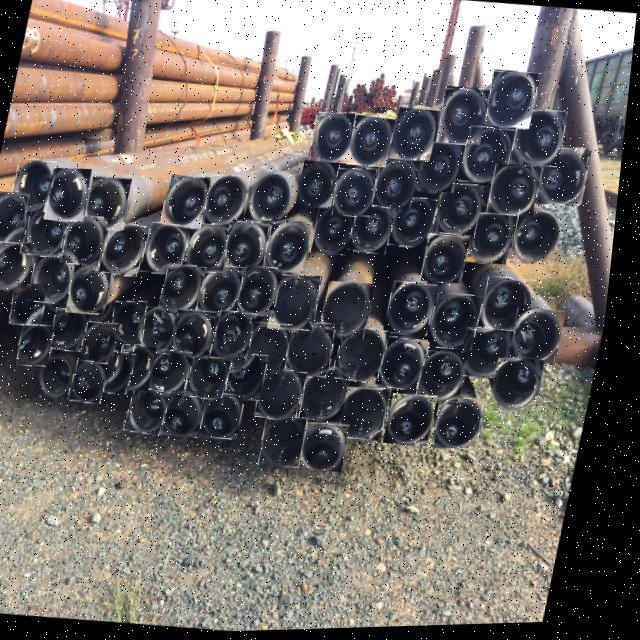pipe: (483, 279, 542, 338), (340, 328, 397, 386), (514, 112, 570, 170), (462, 129, 518, 187), (433, 295, 489, 353), (515, 311, 572, 366), (326, 284, 381, 341), (487, 73, 541, 131), (490, 167, 546, 222), (390, 283, 444, 338), (383, 338, 437, 393), (540, 152, 593, 208), (465, 329, 521, 382), (514, 213, 568, 267), (440, 91, 492, 147), (498, 361, 552, 414), (346, 389, 399, 443), (276, 276, 327, 332), (468, 214, 521, 267), (437, 185, 489, 239), (263, 369, 315, 423), (248, 173, 299, 228), (104, 222, 154, 278), (393, 396, 446, 448), (391, 109, 442, 163), (248, 323, 299, 377), (424, 353, 475, 406), (307, 370, 358, 423), (165, 175, 215, 229), (87, 176, 135, 232), (293, 325, 343, 378), (12, 158, 61, 212), (393, 198, 442, 251), (349, 117, 398, 170), (268, 222, 317, 275), (146, 223, 195, 276), (26, 205, 75, 258), (308, 424, 359, 474), (417, 143, 466, 195), (443, 401, 493, 451), (352, 206, 401, 257), (49, 168, 95, 222), (192, 351, 241, 401), (33, 254, 82, 304), (268, 418, 316, 469), (164, 265, 212, 316), (65, 215, 113, 266), (427, 236, 475, 286), (376, 161, 423, 212), (242, 267, 289, 318), (203, 267, 250, 318), (216, 312, 263, 362), (208, 176, 253, 228), (72, 265, 118, 315), (132, 388, 179, 436), (178, 311, 224, 360), (312, 114, 357, 164), (229, 224, 274, 274), (154, 350, 200, 398), (336, 170, 381, 218), (189, 225, 234, 273), (316, 210, 360, 258), (141, 308, 185, 356), (209, 395, 253, 441), (300, 163, 343, 209), (171, 392, 214, 438), (121, 346, 164, 392), (0, 242, 40, 291), (234, 356, 276, 402), (54, 308, 97, 352), (75, 361, 117, 404), (0, 193, 33, 243), (45, 356, 83, 399), (107, 351, 144, 395), (87, 322, 125, 363), (118, 302, 154, 345), (16, 284, 53, 325), (24, 326, 61, 366)
